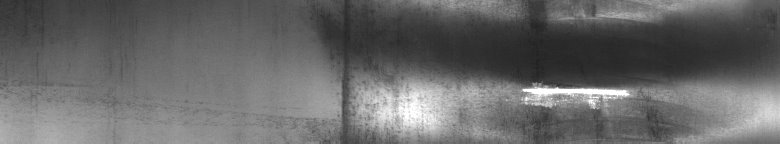ke: (336, 4, 680, 136)
